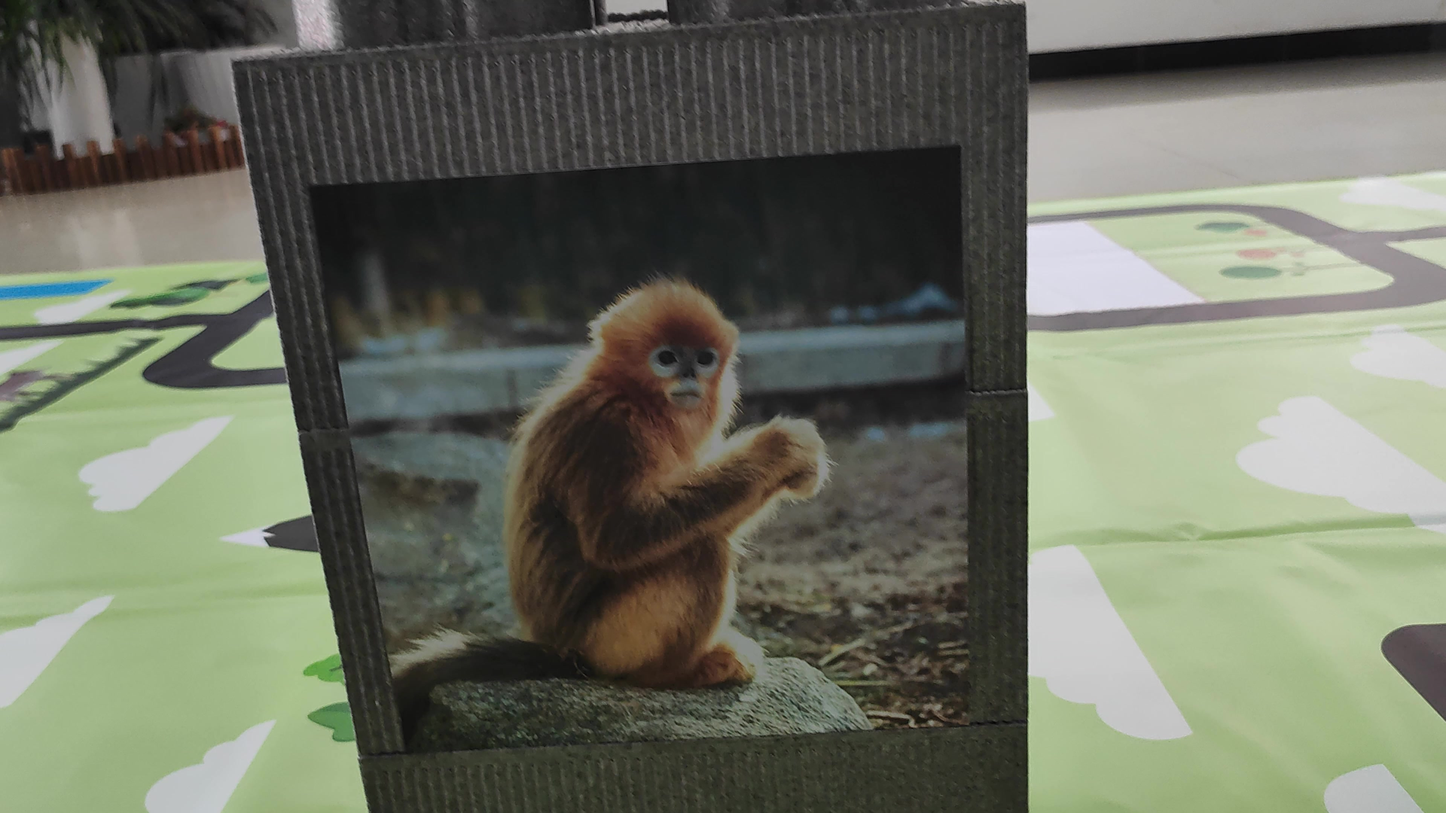monkey: (370, 207, 883, 732)
